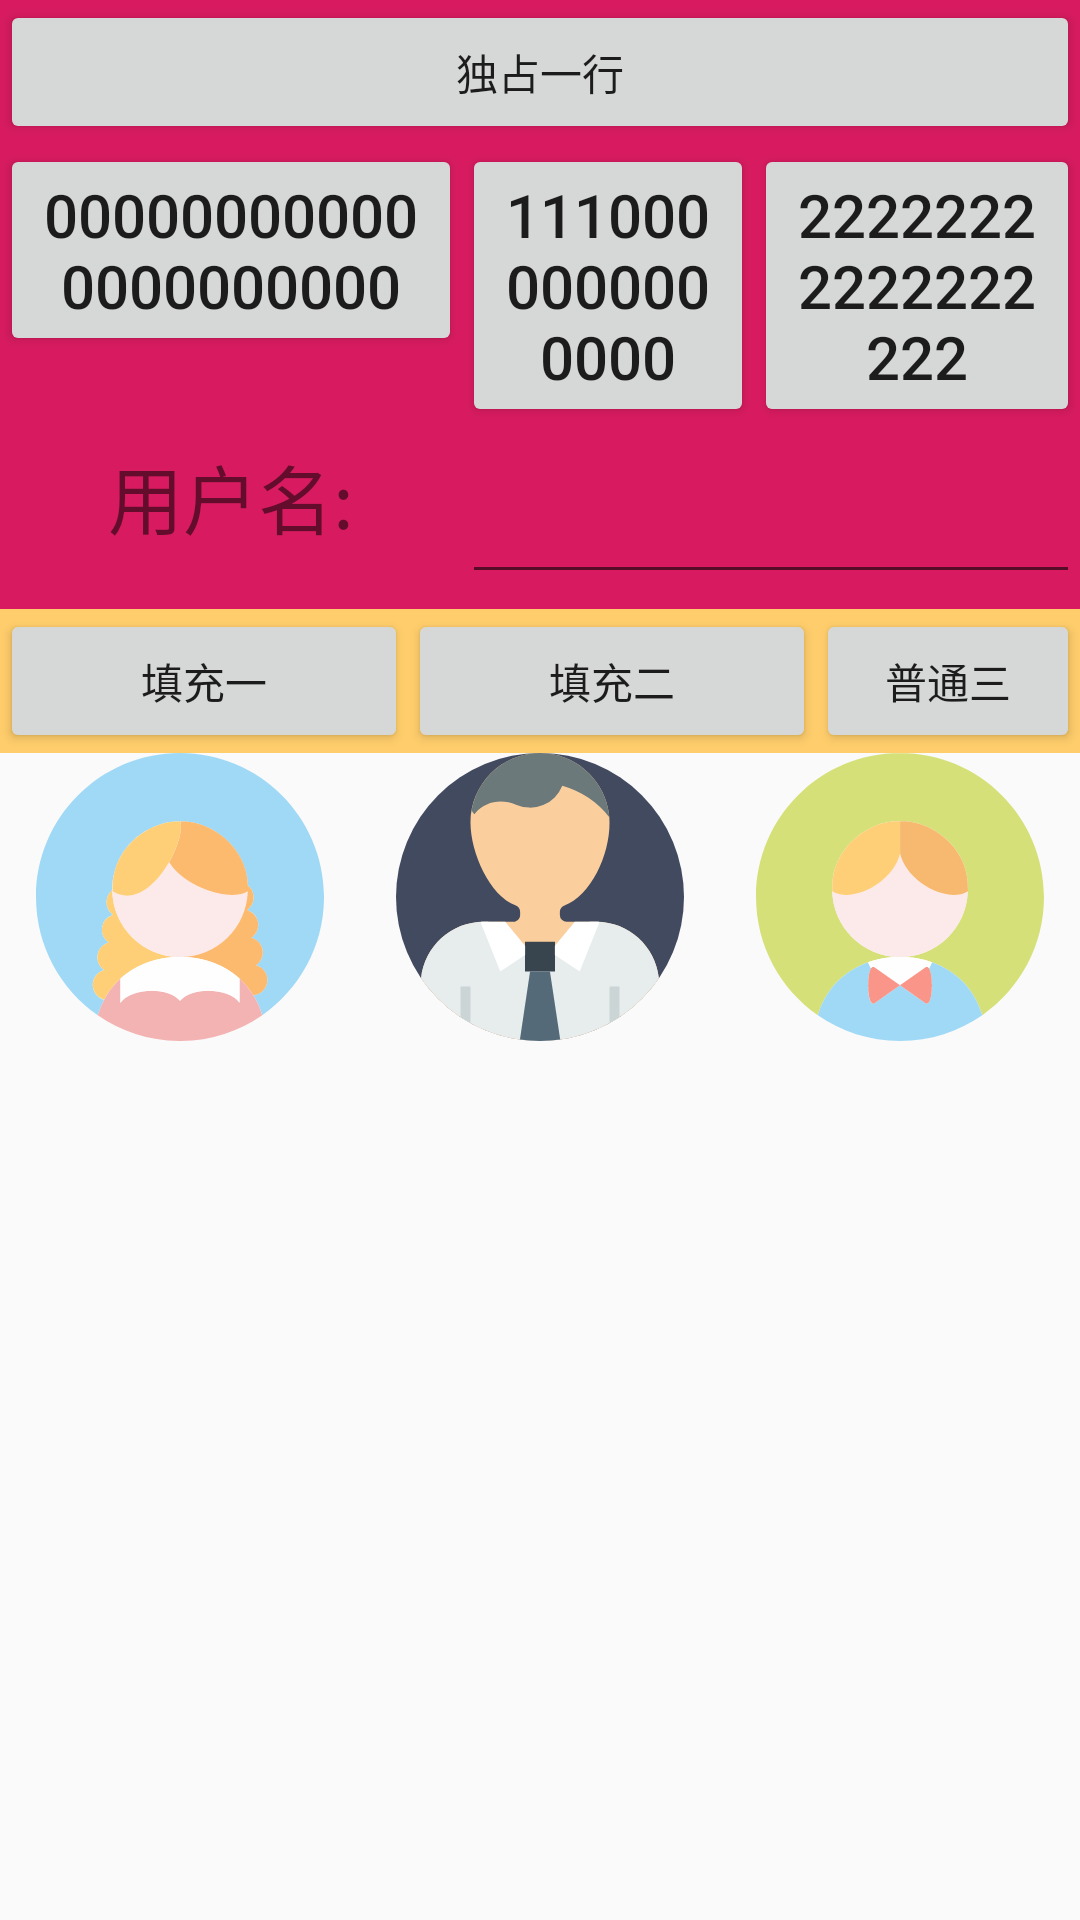

Icons on this 1080*1920 Android screen, each with its box as {"x1": x1, "y1": y1, "x2": x2, "y2": y2}:
boy: {"x1": 756, "y1": 753, "x2": 1044, "y2": 1041}
girl: {"x1": 36, "y1": 753, "x2": 324, "y2": 1041}
man: {"x1": 396, "y1": 753, "x2": 684, "y2": 1041}
